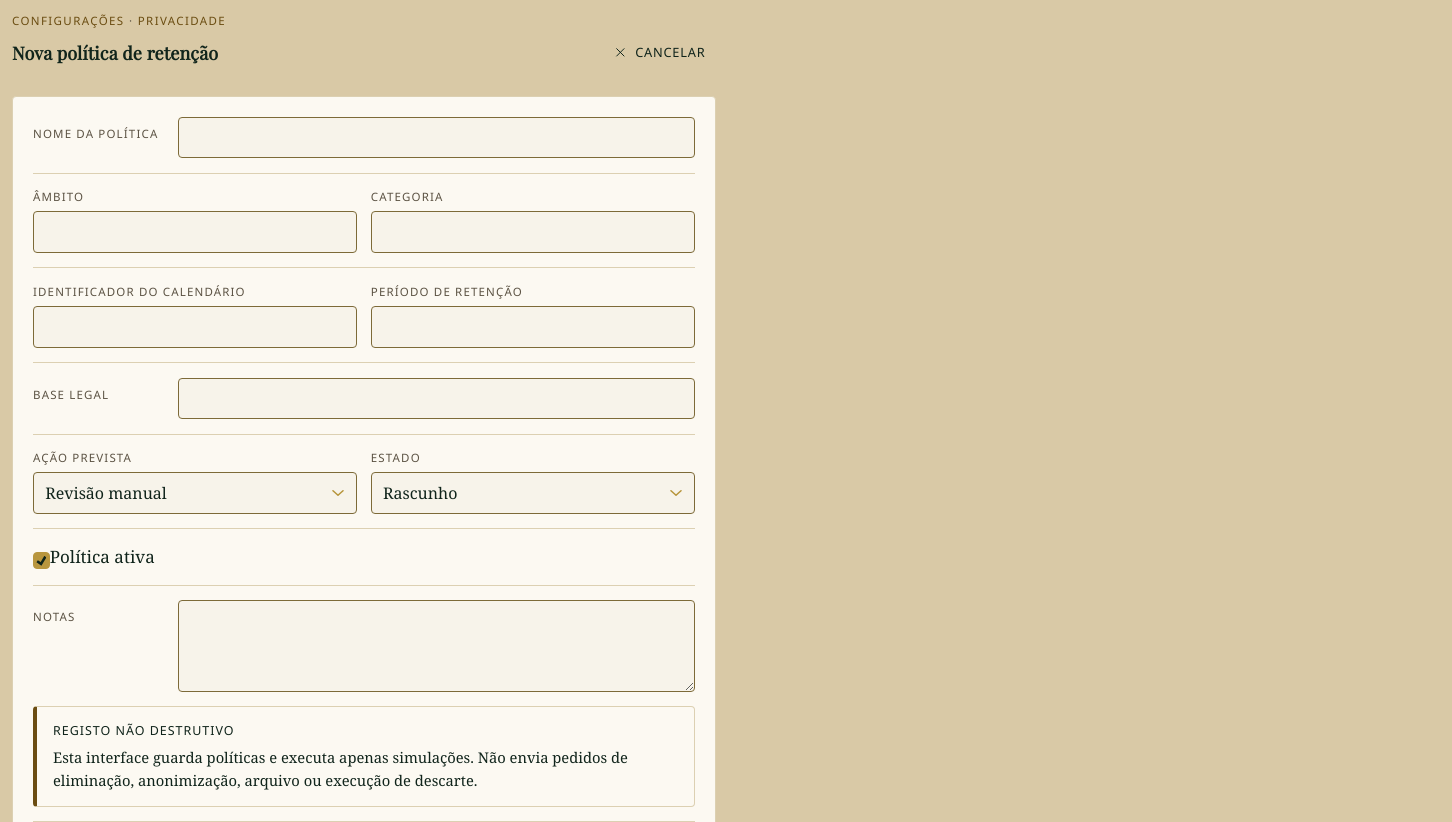
Scenario: the create route › keeps the form open and says why when the write is refused
Type "Arquivo de livros encerrados" into the field labelled "Nome da política".
click(437, 138); type("Arquivo de livros encerrados")  # box left=178, top=117, right=695, bottom=158
Type "book_archive" into the field labelled "Âmbito".
click(195, 232); type("book_archive")  # box left=33, top=212, right=357, bottom=253
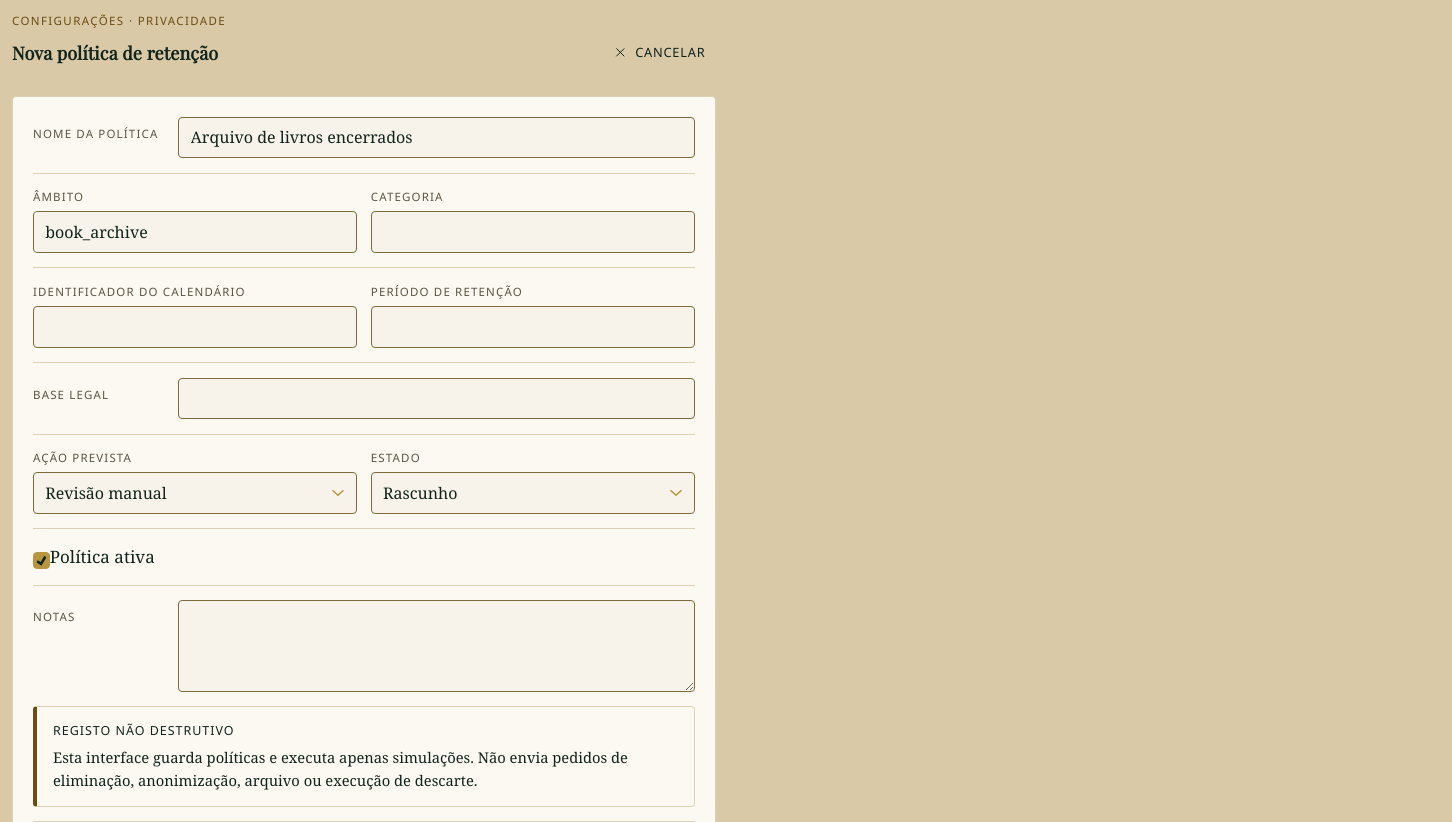
Type "documents" into the field labelled "Categoria".
click(533, 232); type("documents")  # box left=371, top=212, right=695, bottom=253
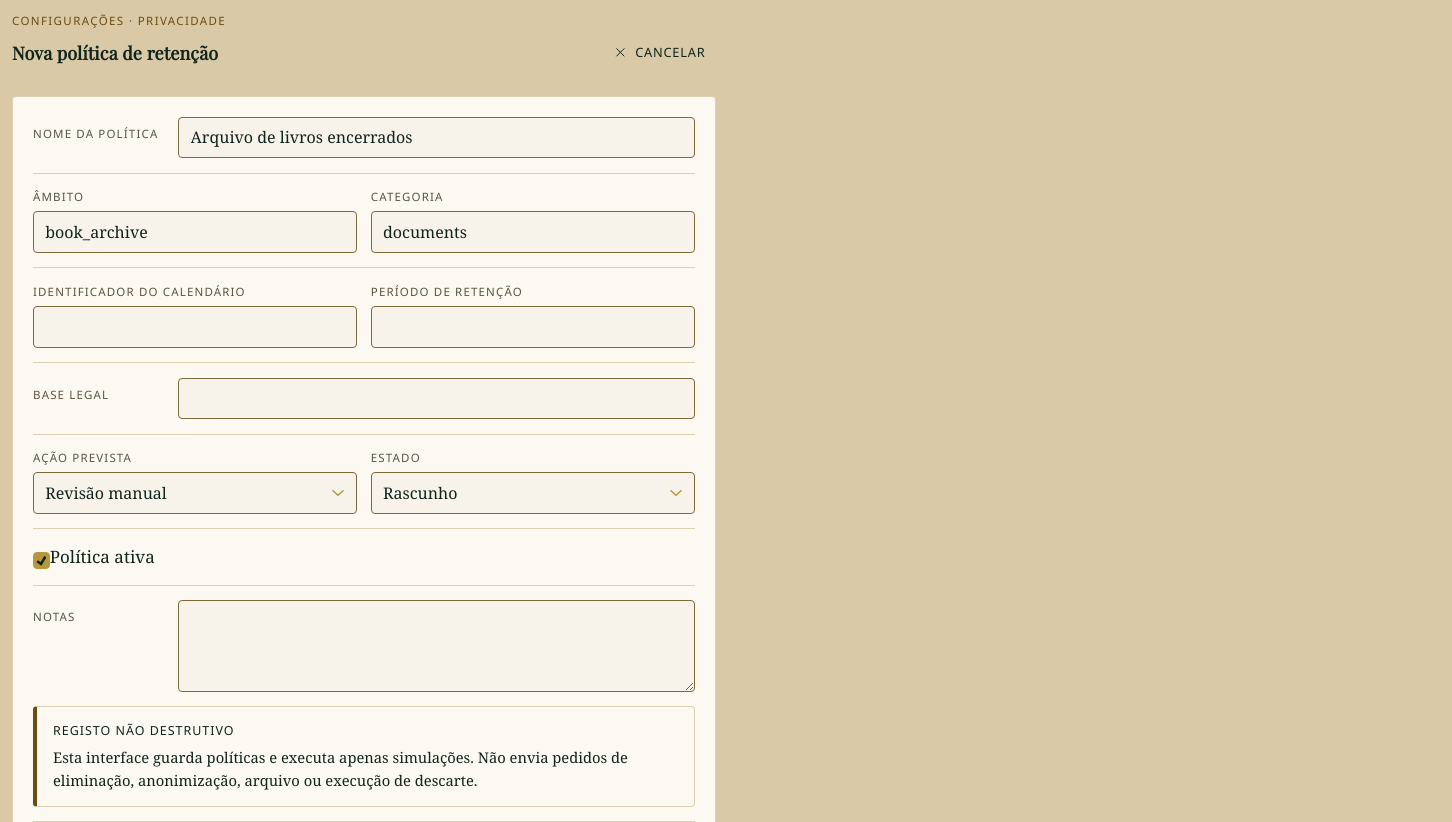
Type "legal-10y" into the field labelled "Identificador do calendário".
click(195, 327); type("legal-10y")  # box left=33, top=306, right=357, bottom=348
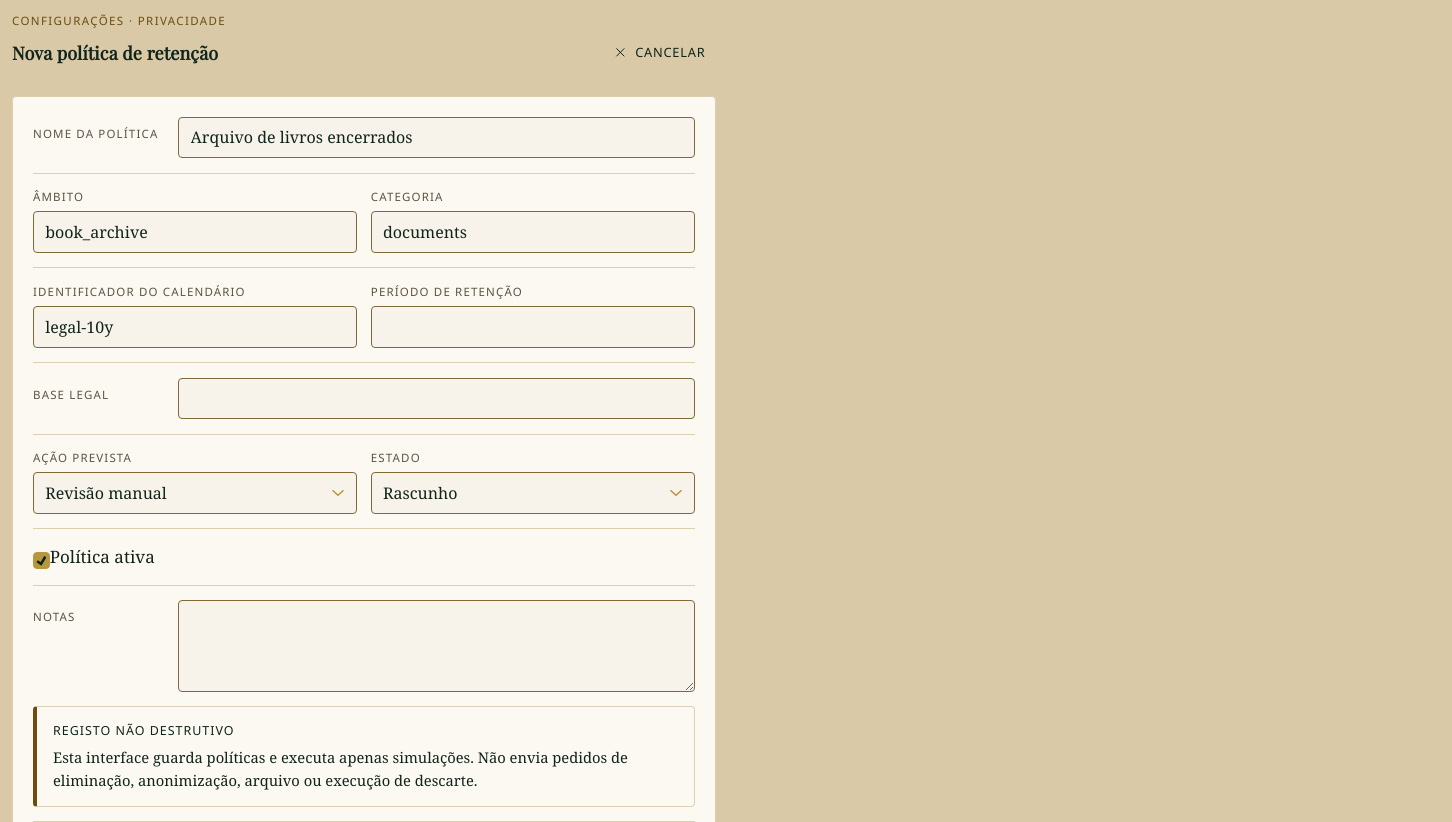
Type "P10Y" into the field labelled "Período de retenção".
click(533, 327); type("P10Y")  # box left=371, top=306, right=695, bottom=348
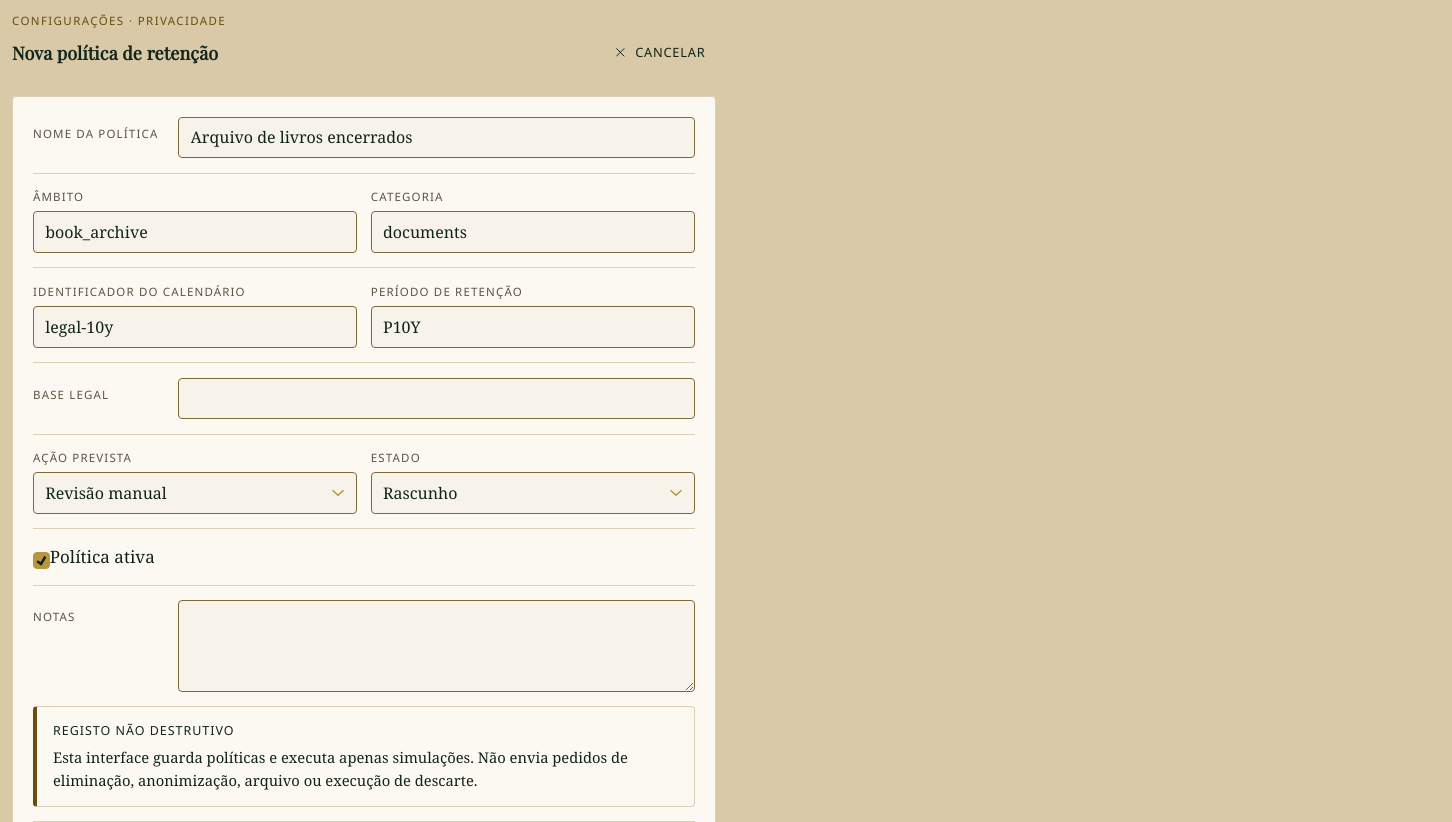
Type "Lei do registo comercial" into the field labelled "Base legal".
click(437, 398); type("Lei do registo comercial")  # box left=178, top=378, right=695, bottom=419
(page scrolled)
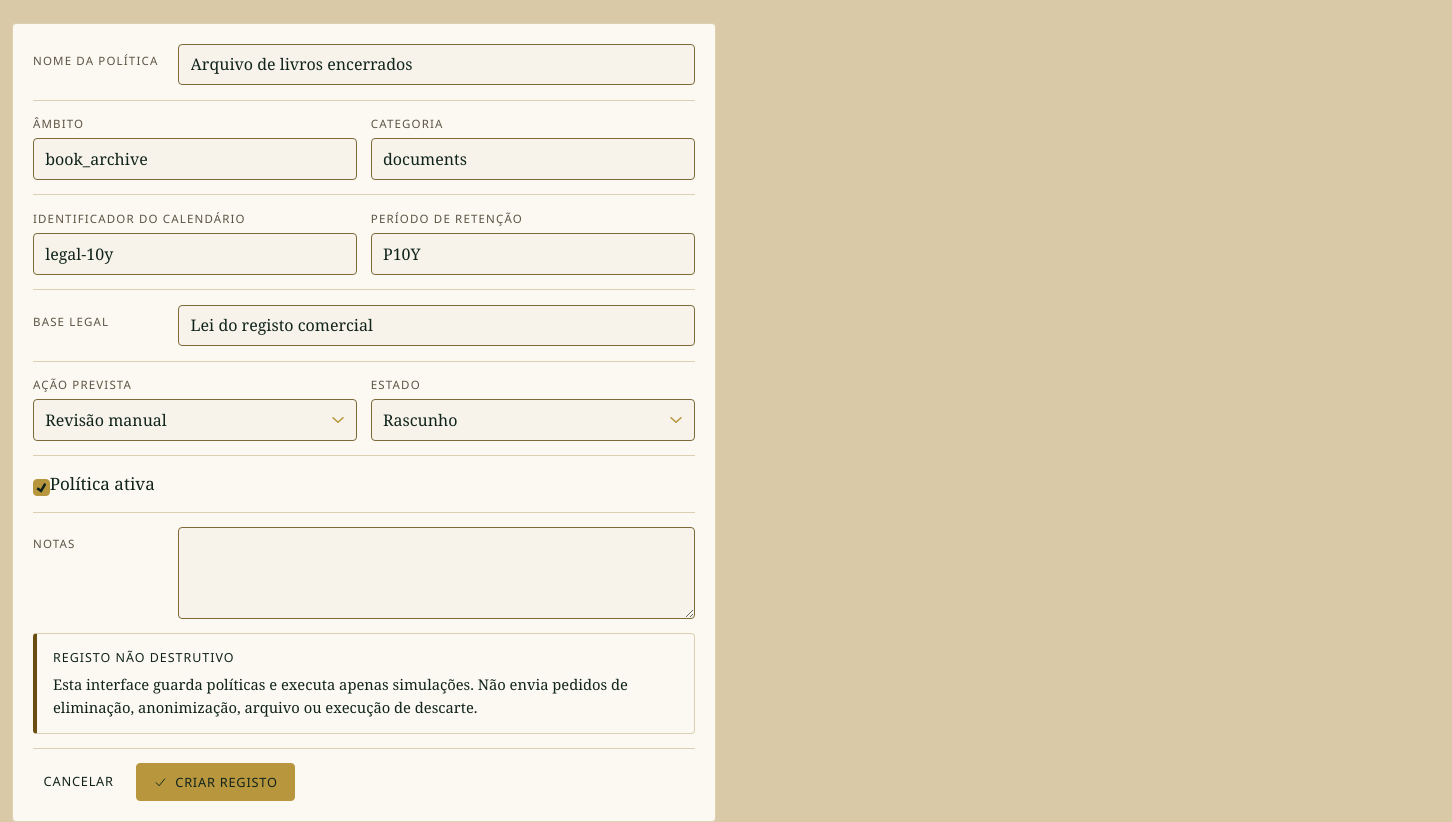
Click the button "Criar registo".
click(216, 782)  # box left=136, top=763, right=295, bottom=801
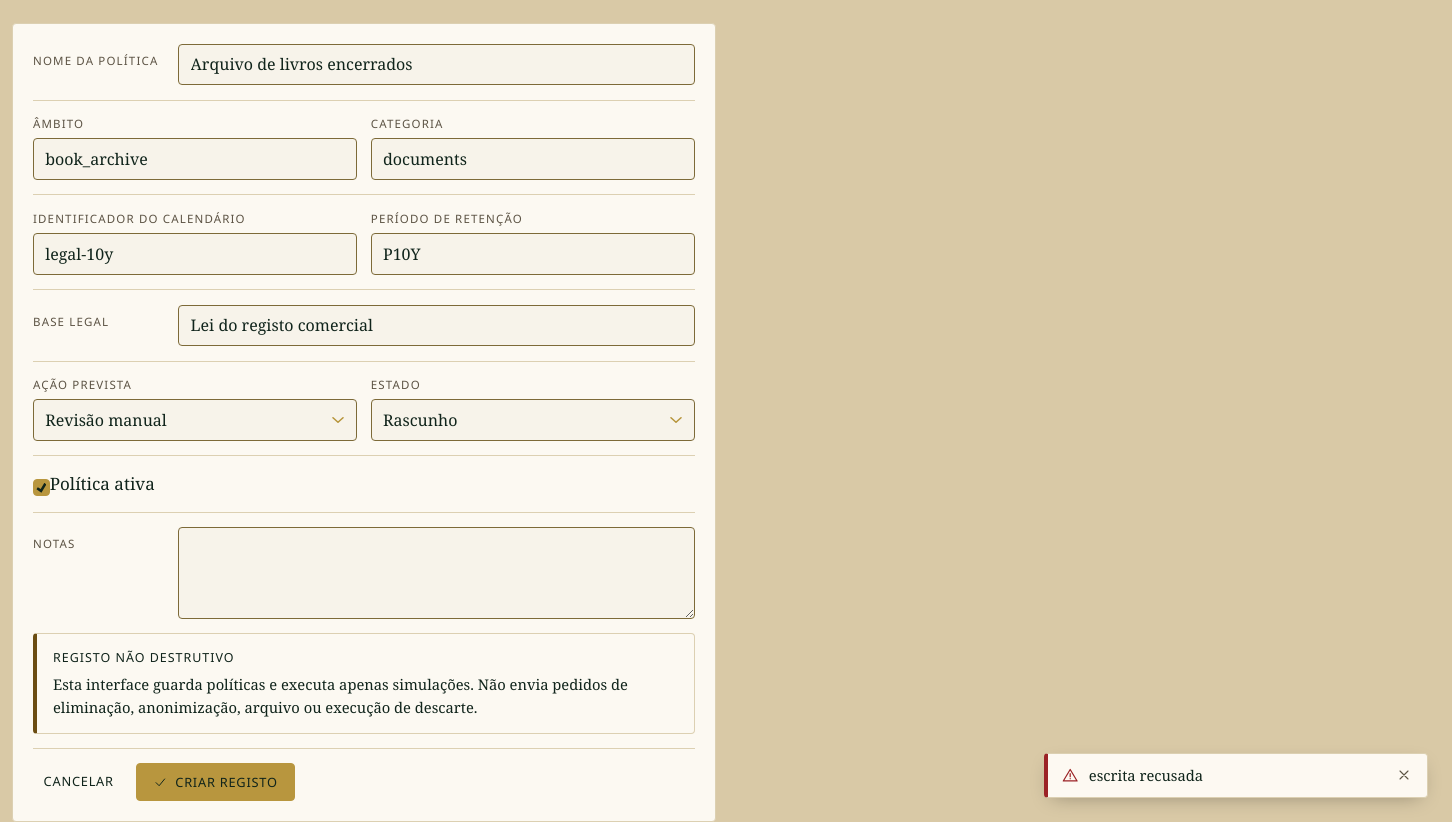
Now the text "escrita recusada" is shown, box left=1089, top=765, right=1203, bottom=785
